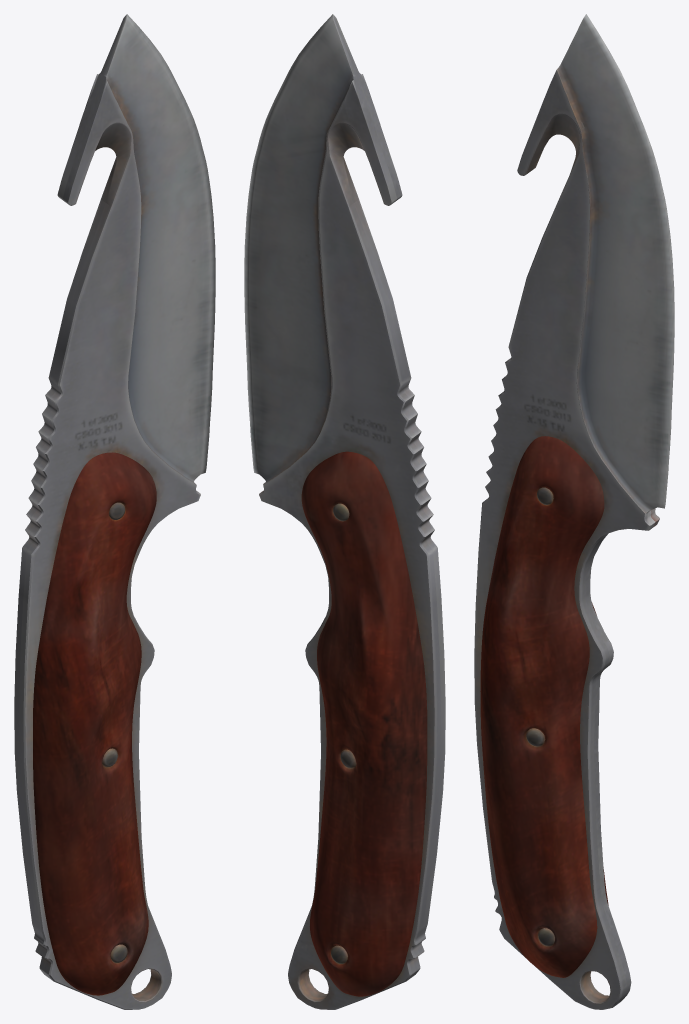
The model's file is weapon_knife_gut.glb.
3 renders of one model, left to right at view 1: azimuth 30°, elevation 25°; view 2: azimuth 150°, elevation 25°; view 3: azimuth 330°, elevation 25°, orthographic.
Parts seen in each view (by area): view 1: weapons/models/knife/knife_gut/weapon_knife_gut.vmdl_c.body_; view 2: weapons/models/knife/knife_gut/weapon_knife_gut.vmdl_c.body_; view 3: weapons/models/knife/knife_gut/weapon_knife_gut.vmdl_c.body_.
Part boxes in pixels (x1,y1,x2,y2): weapons/models/knife/knife_gut/weapon_knife_gut.vmdl_c.body_: [14, 14, 215, 1009]; weapons/models/knife/knife_gut/weapon_knife_gut.vmdl_c.body_: [244, 14, 445, 1009]; weapons/models/knife/knife_gut/weapon_knife_gut.vmdl_c.body_: [474, 14, 674, 1009].
Size of the model in its own units: 3.03 by 14.61 by 1.36.
Materials: 1 (1 with a texture image).
